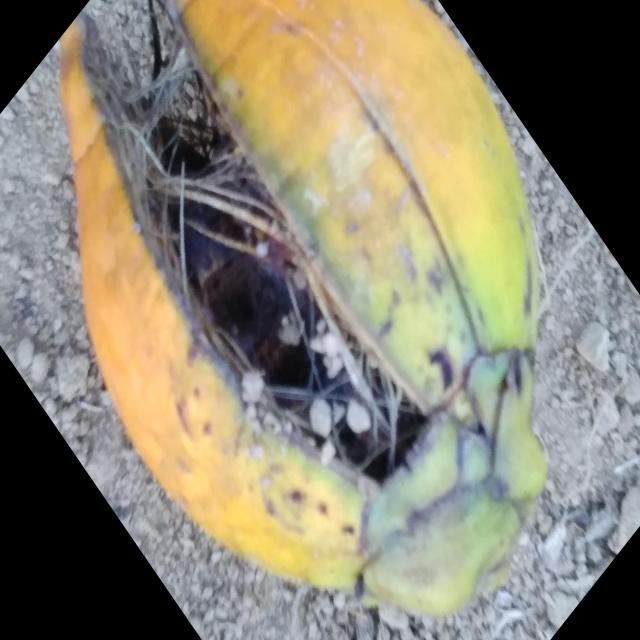damaged: (61, 0, 542, 614)
